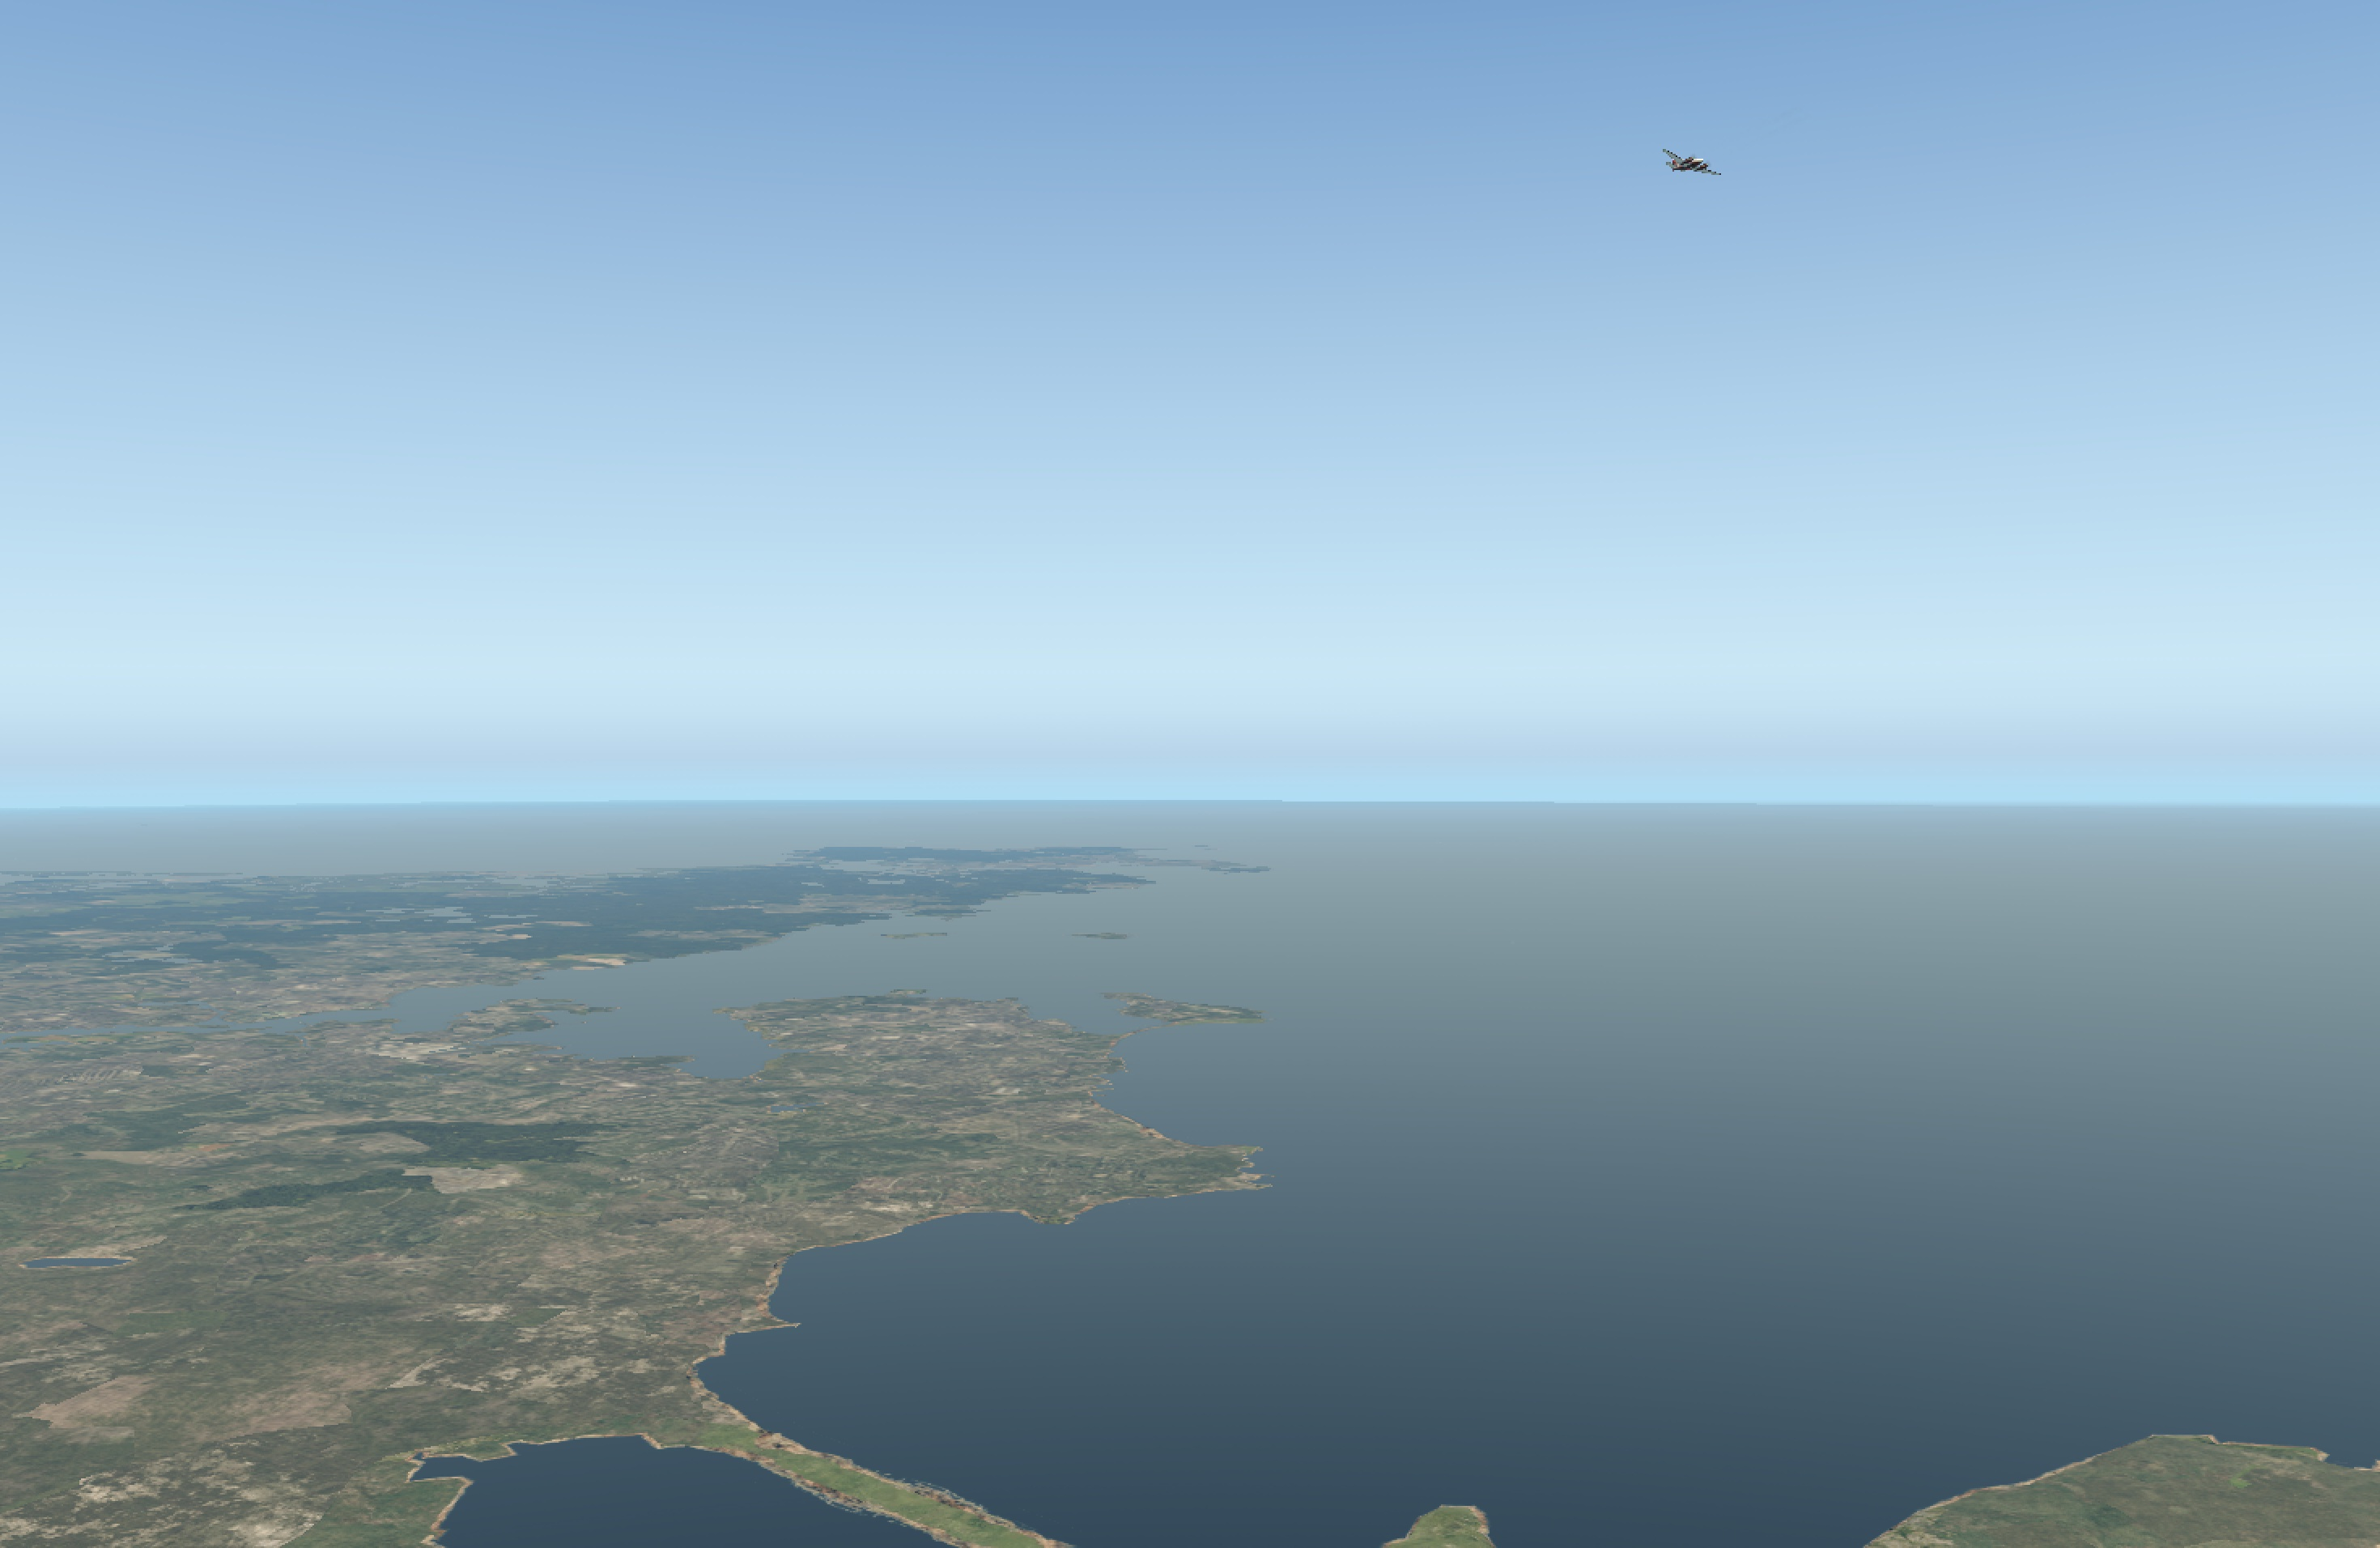aircraft: (1658, 153, 1726, 179)
